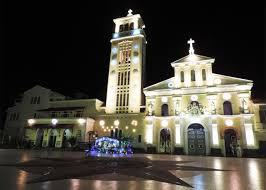manaoag_church_manaoag_pangasinan: (105, 9, 255, 157)
